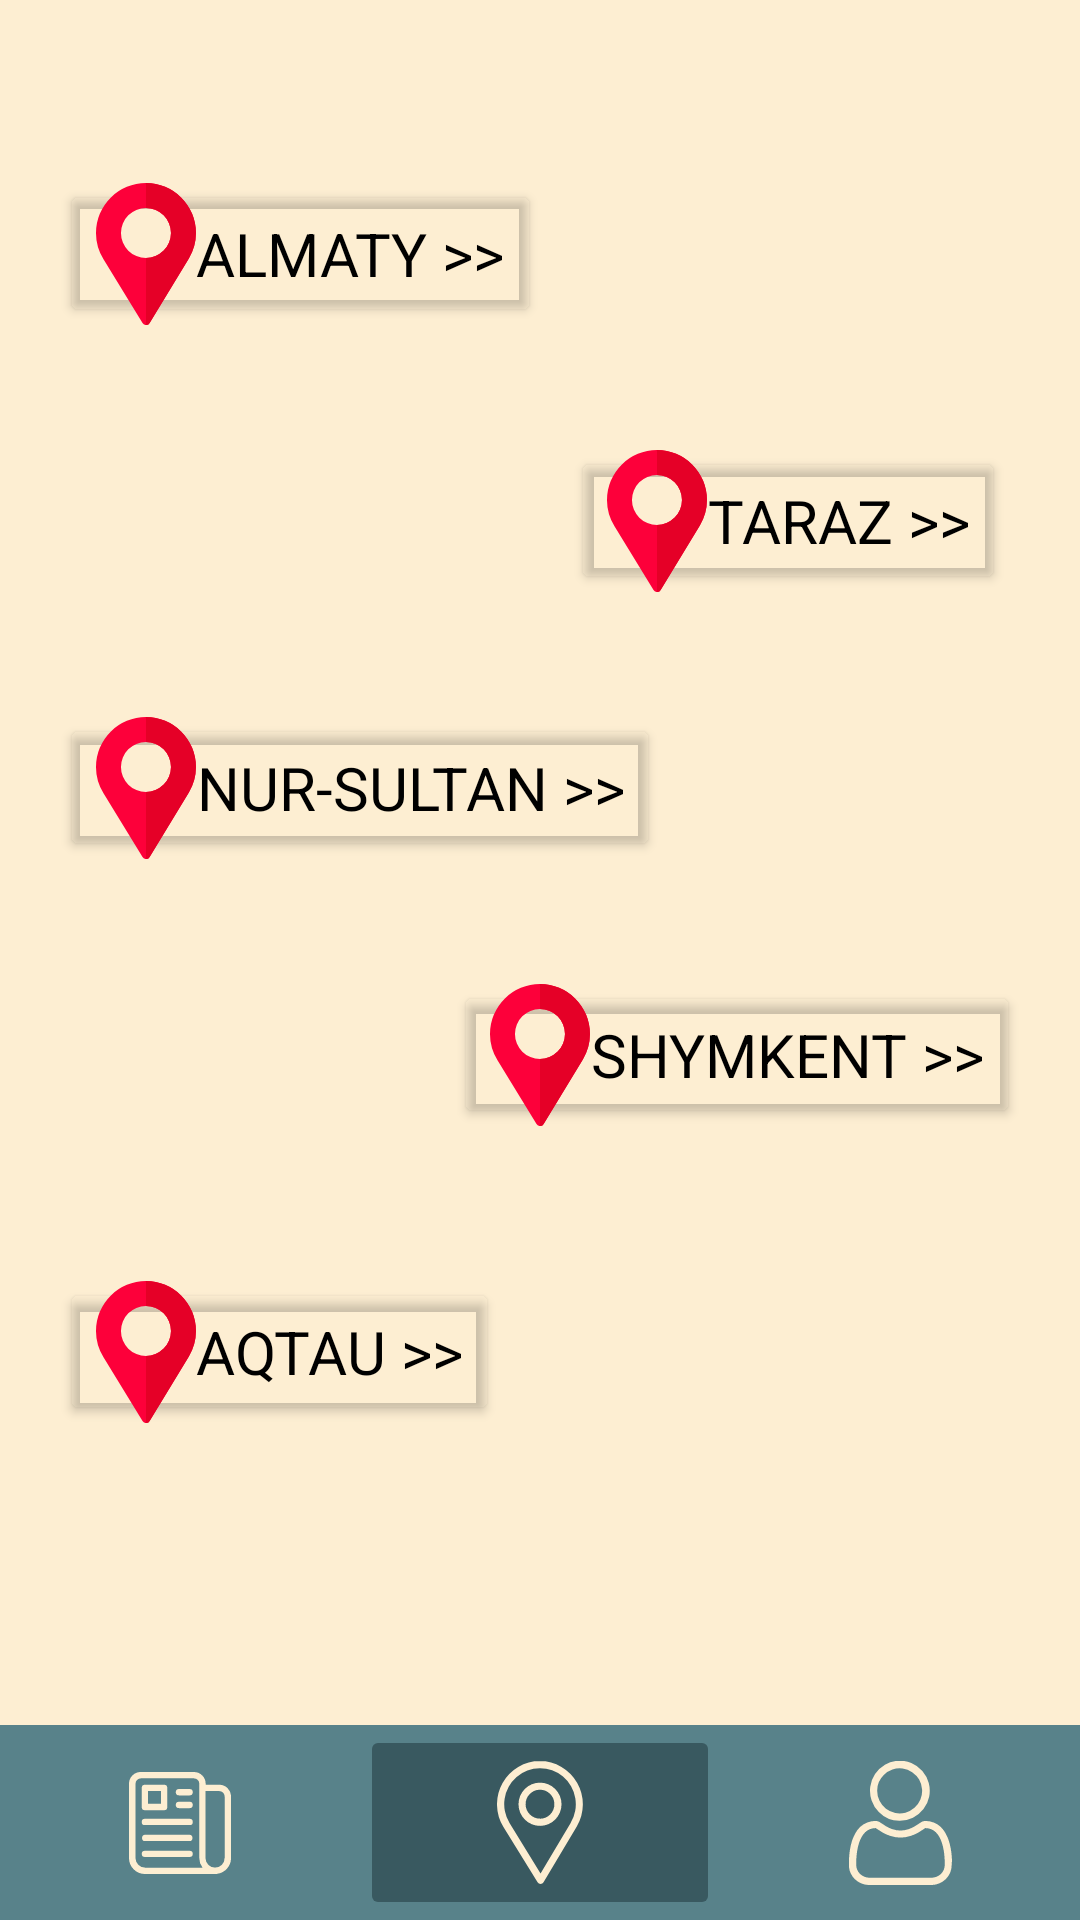

Where to tap for icons on this 1080px×1920px app screen, as (x,y):
accc: (900,1823)
mapp: (540,1822)
newss: (180,1823)
